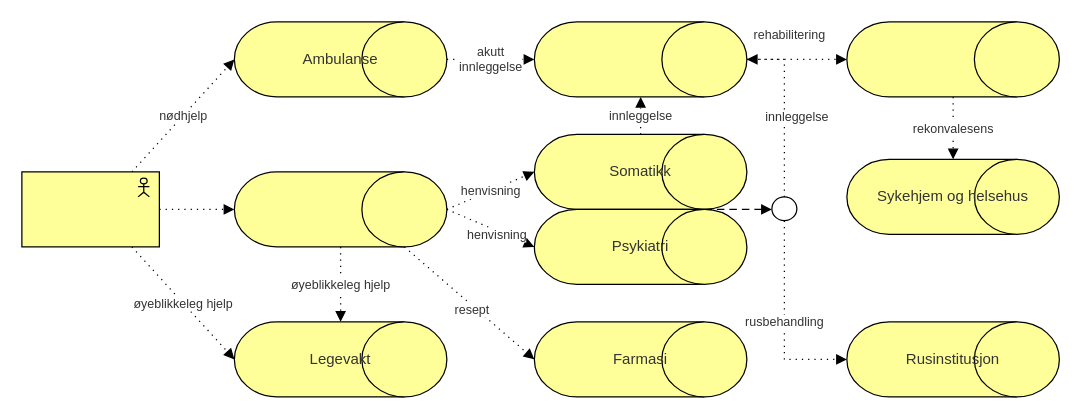
This 1081x419 diagram has some shape labels left out. Here are the shapes that lost their labels. From the top down, the centre of each, then its label:
At point 640,59: "Sykehus".
At point 952,59: "Rehabilitering og opptrening".
At point 90,209: "Pasient".
At point 340,209: "Fastlege".
